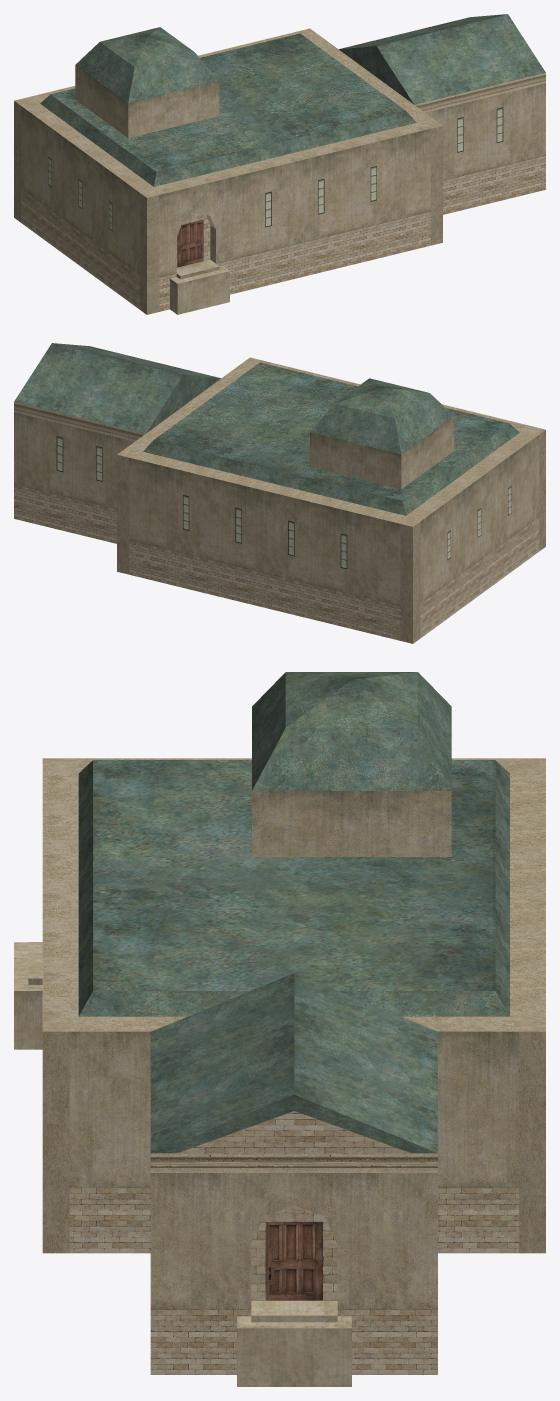
Rendered from thm_nboo_farmhouse_s01_l1.fbx.
3 views of the same model, one above another, from view 1: azimuth 30°, elevation 25°; view 2: azimuth 150°, elevation 25°; view 3: azimuth 270°, elevation 25° (orthographic). The views are drawn at different scales.
Visible parts, largest first — view 1: mesh_node; view 2: mesh_node; view 3: mesh_node.
Boxes of the visible parts, x1,y1,x2,y2 form: mesh_node: (14, 14, 545, 314); mesh_node: (14, 343, 545, 643); mesh_node: (14, 672, 545, 1386).
Size of the model in its own units: 33.5 by 14.43 by 18.5.
